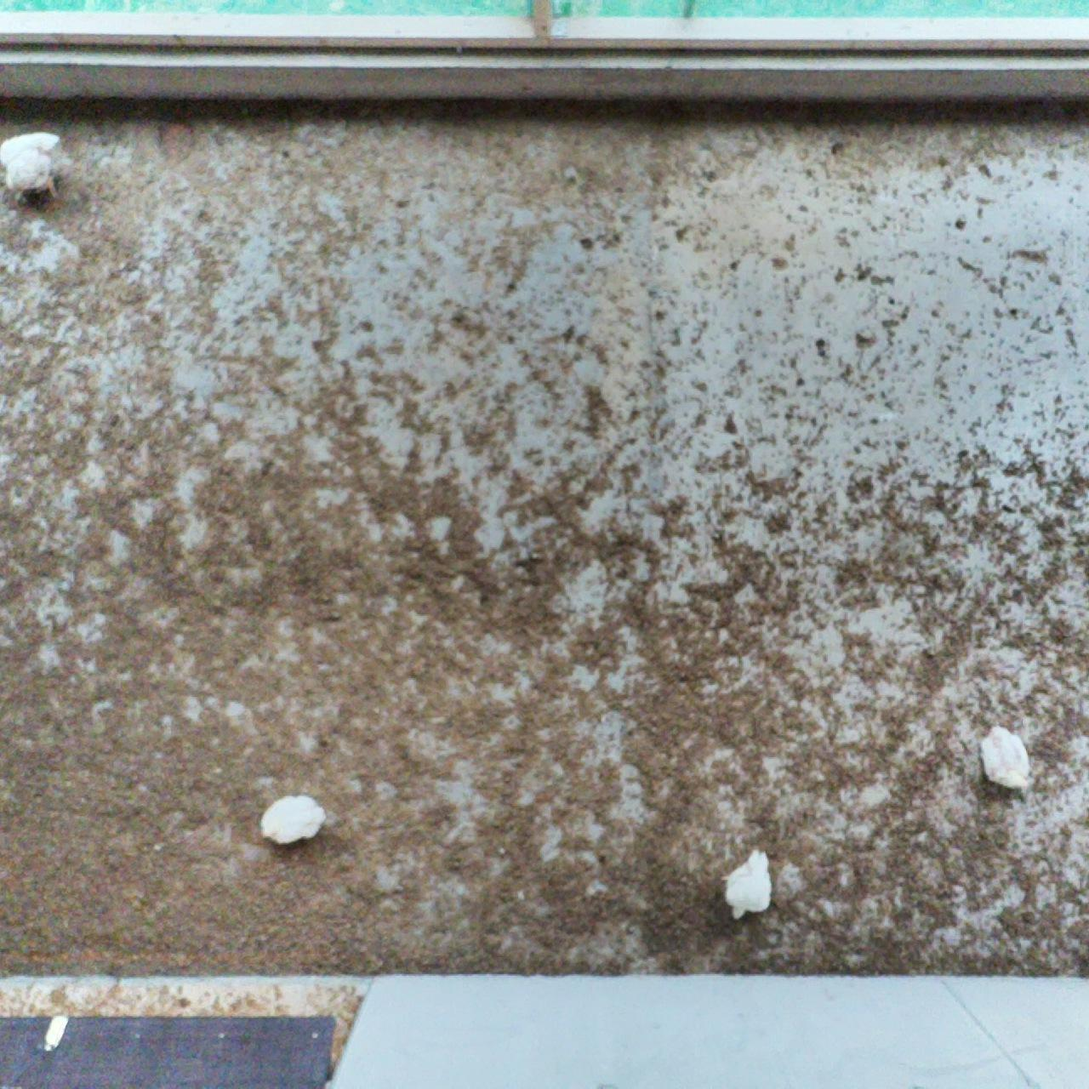chicken: (0, 128, 65, 203), (975, 724, 1037, 797), (720, 845, 778, 921), (257, 793, 329, 847)
